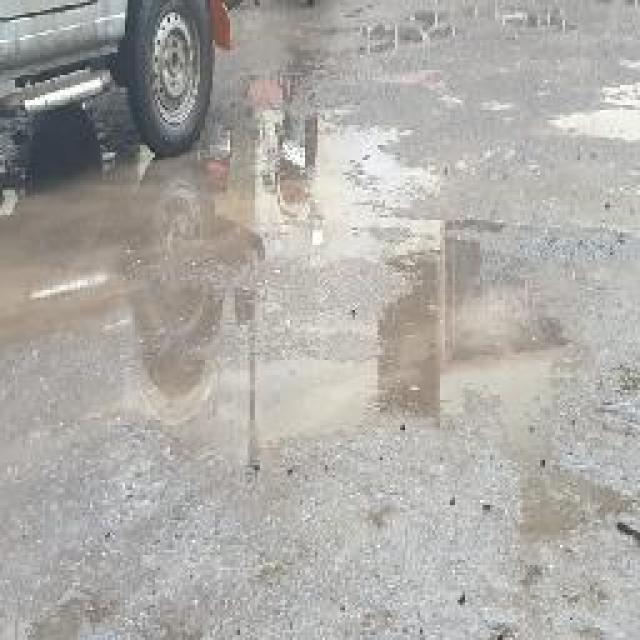stagnation: (0, 91, 623, 547)
